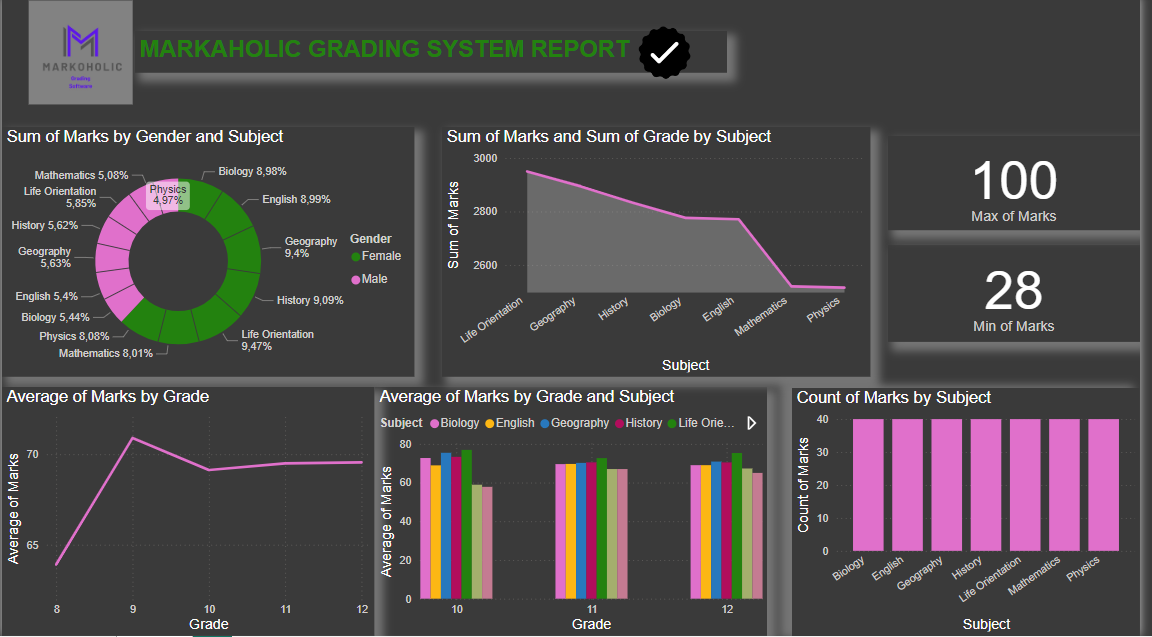

The dashboard page shown, as its layout file describes it:
{"tool":"powerbi","page":{"name":"Page 1","canvas":[1280,720],"ordinal":0},"visuals":[{"type":"donutChart","fields":{"Category":["Class DataCSV.Gender"],"Y":["Sum(Class DataCSV.Marks)"],"Series":["Class DataCSV.Subject"]},"box":[0,147.4,463.5,281.2],"z":0},{"type":"clusteredColumnChart","fields":{"Y":["Avg(Class DataCSV.Marks)"],"Category":["Class DataCSV.Grade"],"Series":["Class DataCSV.Subject"]},"box":[419.4,439.8,441.1,280.5],"z":1000},{"type":"lineChart","fields":{"Category":["Class DataCSV.Grade"],"Y":["Avg(Class DataCSV.Marks)"]},"box":[0,439.8,419.4,280.5],"z":2000},{"type":"stackedAreaChart","fields":{"Category":["Class DataCSV.Subject"],"Y":["Sum(Class DataCSV.Marks)"]},"box":[495,147.4,481.5,281.2],"z":3000},{"type":"clusteredColumnChart","fields":{"Y":["CountNonNull(Class DataCSV.Marks)"],"Category":["Class DataCSV.Subject"]},"box":[888.6,441.1,391.4,279.2],"z":4000},{"type":"textbox","box":[149.6,39.4,666,47.2],"z":5000},{"type":"image","box":[0,0,176.6,127.1],"z":6000},{"type":"image","box":[682.9,20.2,124.9,86.6],"z":7000},{"type":"card","fields":{"Values":["Min(learnerdata.Marks)"]},"box":[996.8,280.1,283.5,109.1],"z":8000},{"type":"card","fields":{"Values":["Max(learnerdata.Marks)"]},"box":[996.8,157.5,283.5,105.8],"z":9000}]}

Visuals, with their boxes in screenshot pixels (x1, y1, x2, y2), scaled from the page's 1280x720 canvas onto the 1152x637 screenshot:
donutChart - Class DataCSV.Gender x Sum(Class DataCSV.Marks): (0, 130, 417, 379)
clusteredColumnChart - Avg(Class DataCSV.Marks) x Class DataCSV.Grade: (377, 389, 774, 636)
lineChart - Class DataCSV.Grade x Avg(Class DataCSV.Marks): (0, 389, 377, 636)
stackedAreaChart - Class DataCSV.Subject x Sum(Class DataCSV.Marks): (446, 130, 879, 379)
clusteredColumnChart - CountNonNull(Class DataCSV.Marks) x Class DataCSV.Subject: (800, 390, 1151, 636)
textbox: (135, 35, 734, 77)
image: (0, 0, 159, 112)
image: (615, 18, 727, 94)
card - Min(learnerdata.Marks): (897, 248, 1151, 344)
card - Max(learnerdata.Marks): (897, 139, 1151, 233)
